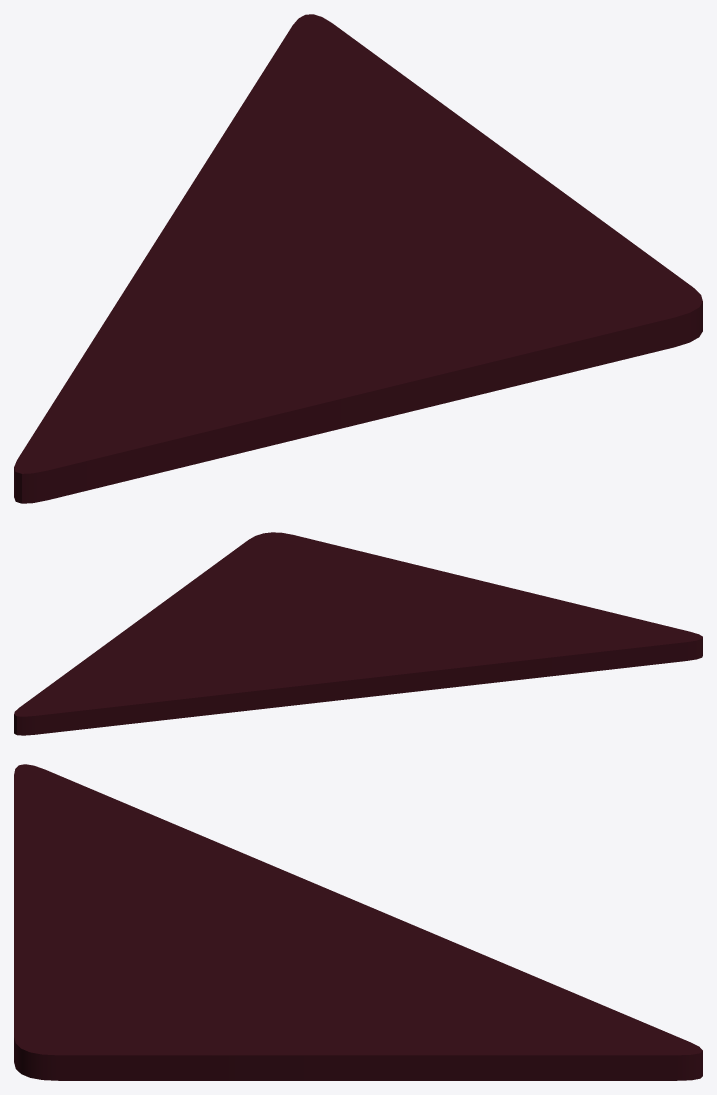
The model's file is bump2.FBX.
The picture shows the model from 3 angles, top to bottom: view 1: azimuth 30°, elevation 25°; view 2: azimuth 150°, elevation 25°; view 3: azimuth 270°, elevation 25°; orthographic projection. The views are drawn at different scales.
Visible parts, largest first — view 1: Box001; view 2: Box001; view 3: Box001.
Boxes of the visible parts, x1,y1,x2,y2 form: Box001: [14, 14, 702, 503]; Box001: [14, 532, 702, 735]; Box001: [14, 764, 702, 1080].
Bounding box in the file's own units: 48.97 × 2 × 48.97.
